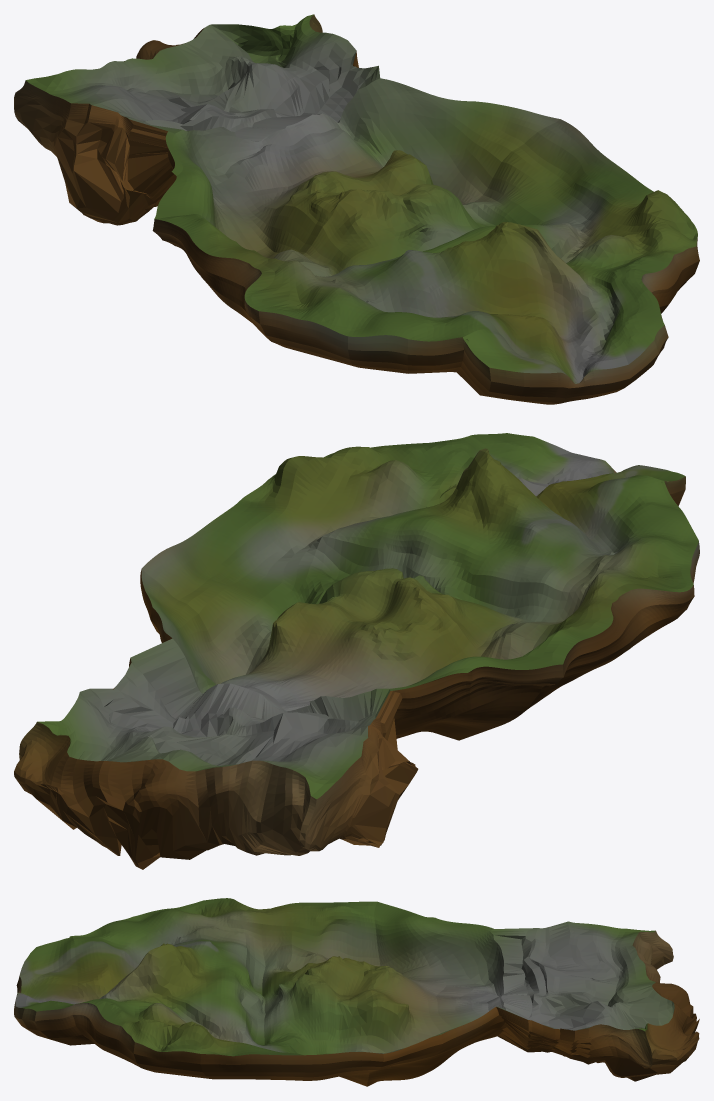
Rendered from MUNDO_vazio.fbx.
The picture shows the model from 3 angles, top to bottom: view 1: azimuth 30°, elevation 25°; view 2: azimuth 150°, elevation 25°; view 3: azimuth 270°, elevation 25°; orthographic projection. The views are drawn at different scales.
Parts seen in each view (by area): view 1: mundo; view 2: mundo; view 3: mundo.
Boxes of the visible parts, x1,y1,x2,y2 form: mundo: (14, 14, 699, 404); mundo: (14, 433, 699, 869); mundo: (14, 898, 699, 1086).
Size of the model in its own units: 15468 by 5684 by 28787.
